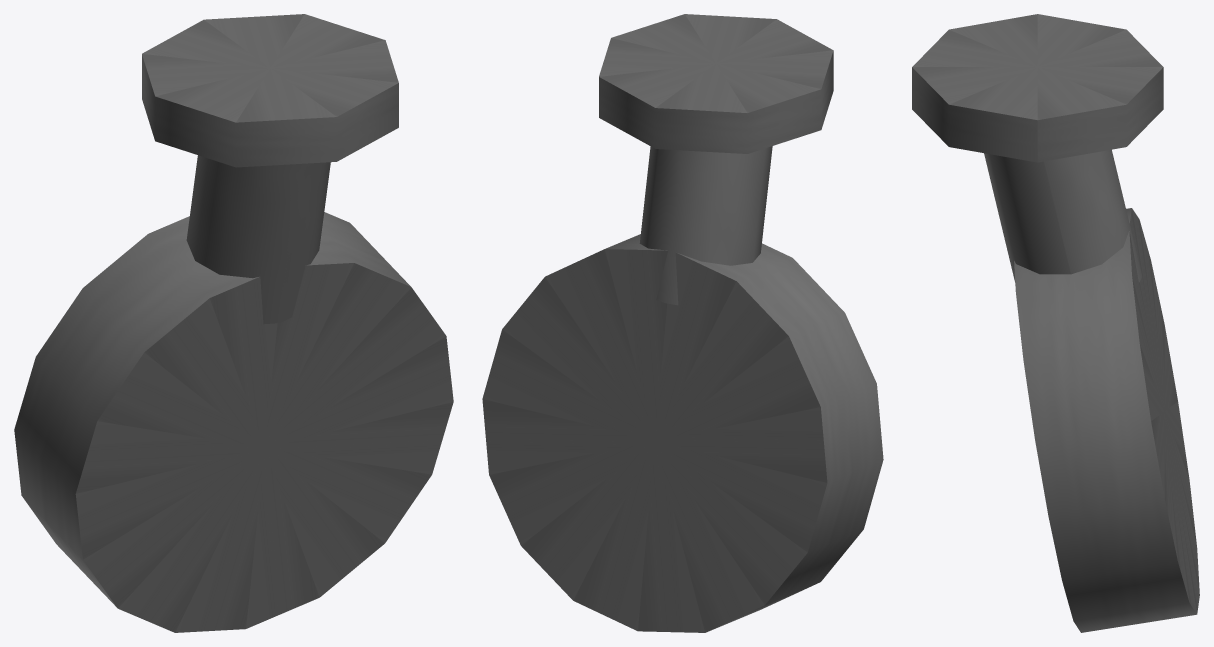
Rendered from mastarmcurve_4x1_c3_up.obj.
3 views of the same model, side by side, from view 1: azimuth 30°, elevation 25°; view 2: azimuth 150°, elevation 25°; view 3: azimuth 270°, elevation 25° (orthographic). The views are drawn at different scales.
Visible parts, largest first — view 1: mastarm_4x1_c3_up; view 2: mastarm_4x1_c3_up; view 3: mastarm_4x1_c3_up.
Boxes of the visible parts, box(x1,y1,x2,y2) form: mastarm_4x1_c3_up: box(14, 14, 453, 632); mastarm_4x1_c3_up: box(482, 14, 883, 632); mastarm_4x1_c3_up: box(912, 14, 1199, 632).
Bounding box in the file's own units: 0.656 × 0.9594 × 0.4579.
